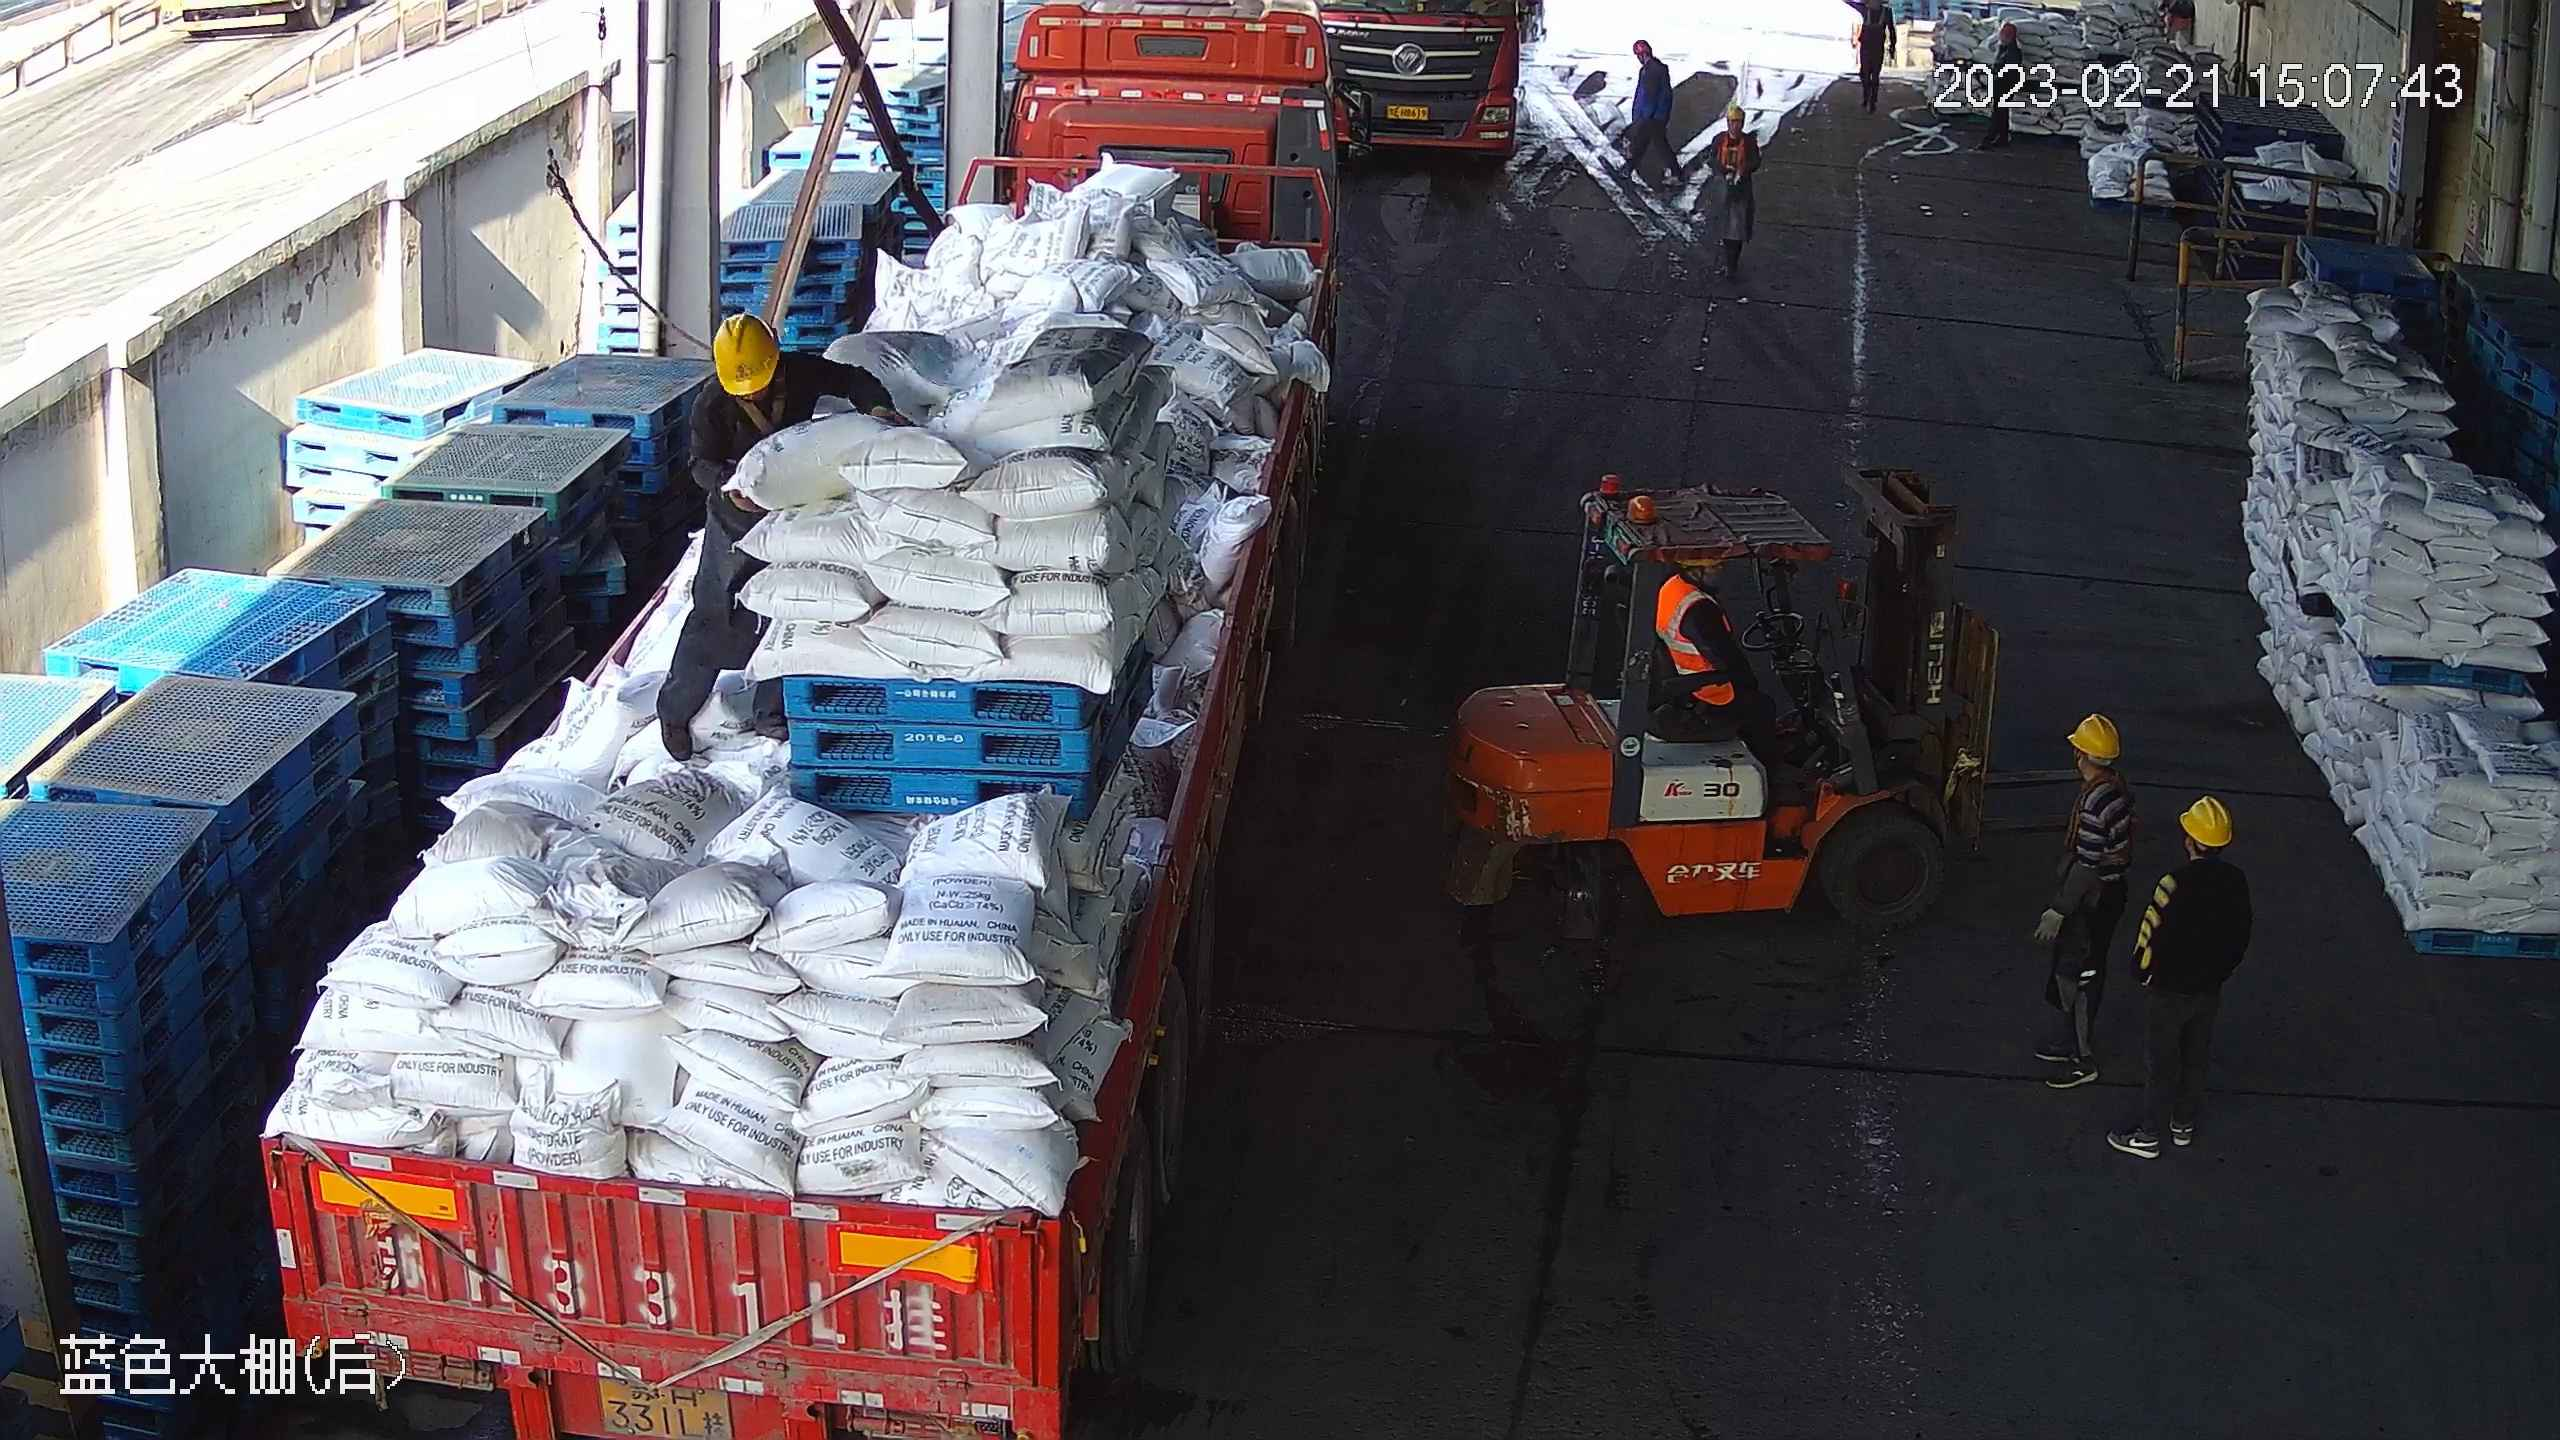belt: (727, 386, 805, 438)
head: (661, 321, 873, 447), (2122, 775, 2246, 904), (2029, 708, 2123, 834), (1664, 547, 1738, 634)
helmet: (701, 304, 788, 395), (2170, 786, 2231, 853), (2059, 716, 2127, 764), (1625, 36, 1664, 66), (1716, 97, 1764, 117)
people: (664, 312, 909, 769), (2103, 782, 2236, 1162), (2031, 701, 2129, 1093), (1659, 553, 1781, 730), (1690, 97, 1770, 284), (1618, 36, 1692, 208)
truck: (236, 3, 1346, 1425), (1301, 1, 1542, 171)
